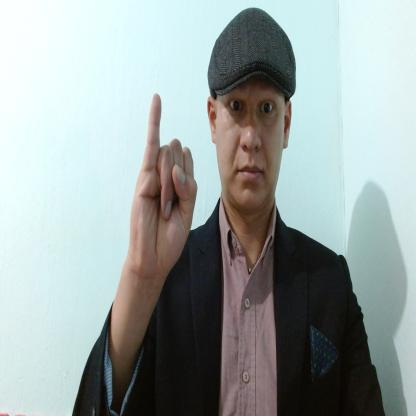I: (127, 91, 199, 277)
